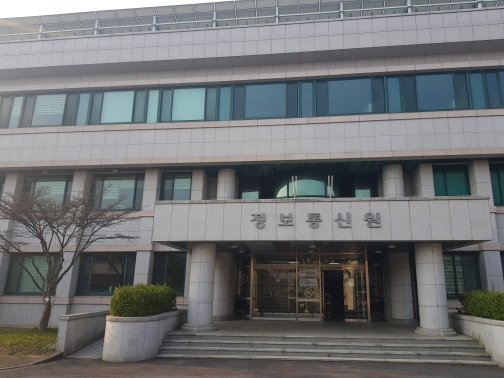Information Telecommunication Center: (1, 18, 498, 336), (197, 138, 421, 332), (244, 200, 401, 241)
